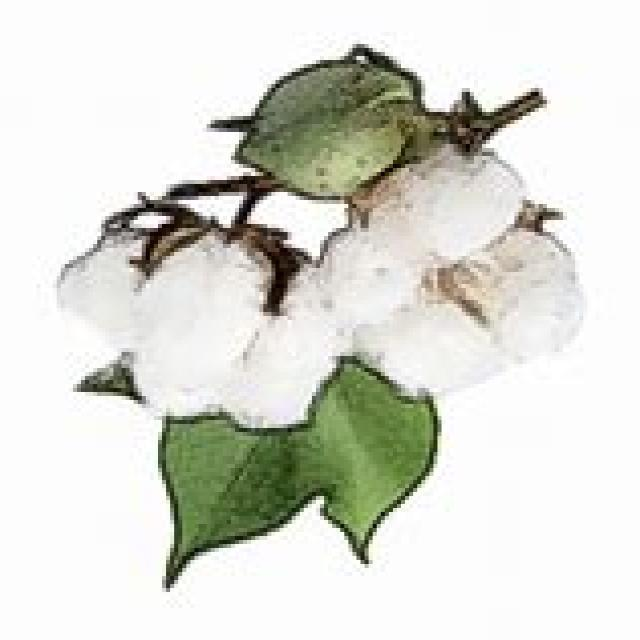Early Boll: (233, 57, 445, 199)
Matured Cotton Boll: (284, 147, 583, 409), (51, 205, 340, 431)
